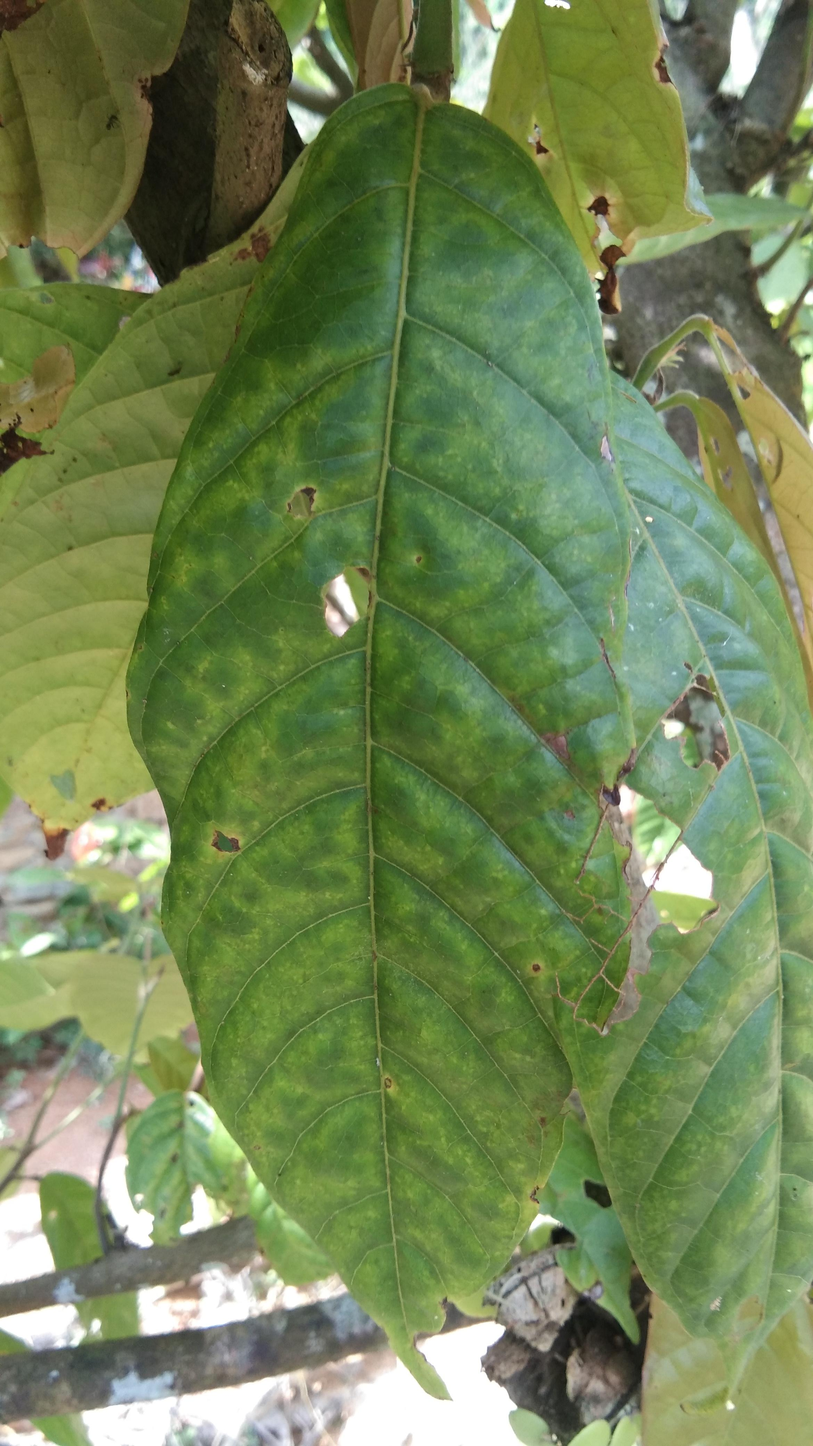deficiencia_potasio: (104, 90, 636, 1443)
